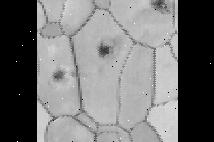good_void: (146, 0, 171, 18), (50, 67, 65, 87), (94, 40, 110, 57)
